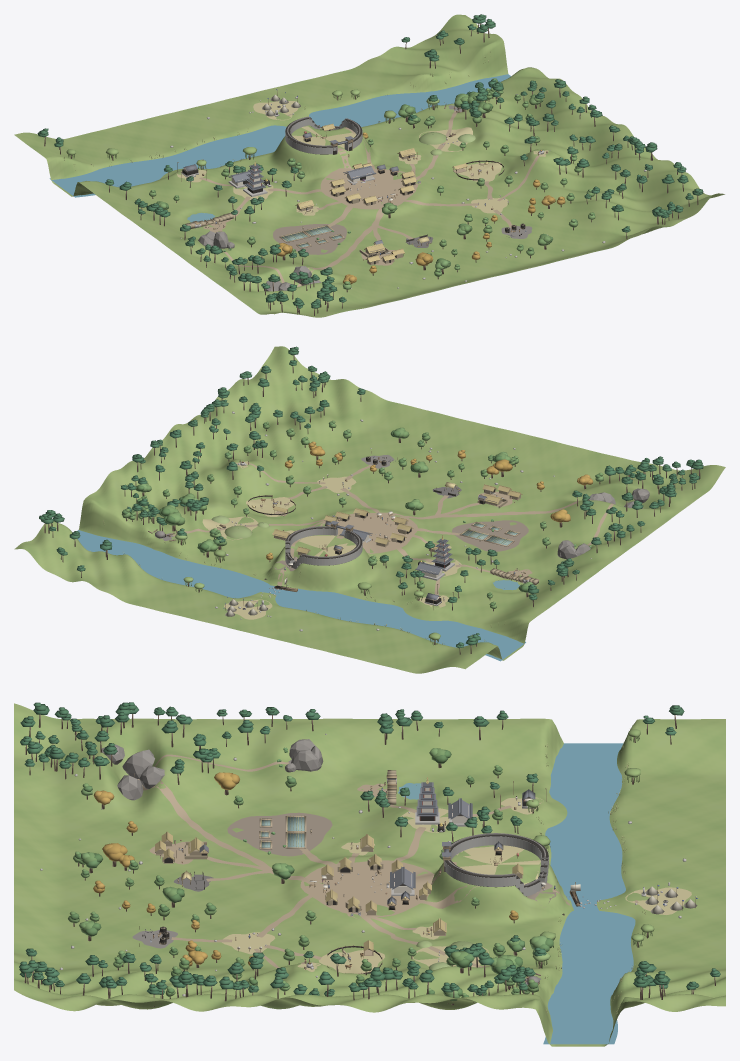
File: samguk.glb
The picture shows the model from 3 angles, top to bottom: view 1: azimuth 30°, elevation 25°; view 2: azimuth 150°, elevation 25°; view 3: azimuth 270°, elevation 25°; orthographic projection. The views are drawn at different scales.
Parts seen in each view (by area): view 1: ground, static_pine, river, static_dirt, static_leaf2, static_dry, static_bark, static_stone, static_thatch, static_mud, static_leaf_autumn, static_wall_stone (+4 smaller); view 2: ground, river, static_pine, static_dirt, static_dry, static_leaf2, static_bark, static_leaf, static_mud, static_stone, static_leaf_autumn, static_thatch (+4 smaller); view 3: ground, river, static_pine, static_dirt, static_dry, static_leaf2, static_leaf, static_bark, static_mud, static_stone, static_leaf_autumn, static_wall_stone (+6 smaller).
Boxes of the visible parts, bbox=[...] form: ground: bbox=[14, 14, 724, 317]; static_pine: bbox=[37, 14, 703, 308]; river: bbox=[49, 74, 510, 197]; static_dirt: bbox=[199, 110, 540, 286]; static_leaf2: bbox=[149, 78, 621, 289]; static_dry: bbox=[64, 52, 548, 215]; static_bark: bbox=[44, 23, 698, 315]; static_stone: bbox=[170, 94, 646, 294]; static_thatch: bbox=[295, 124, 467, 262]; static_mud: bbox=[273, 224, 346, 254]; static_leaf_autumn: bbox=[277, 132, 565, 284]; static_wall_stone: bbox=[285, 118, 362, 154]; ground: bbox=[14, 346, 725, 673]; river: bbox=[77, 530, 525, 661]; static_pine: bbox=[39, 346, 703, 648]; static_dirt: bbox=[172, 463, 614, 602]; static_dry: bbox=[103, 461, 491, 631]; static_leaf2: bbox=[121, 420, 603, 608]; static_bark: bbox=[44, 355, 700, 654]; static_leaf: bbox=[122, 421, 602, 605]; static_mud: bbox=[271, 520, 528, 575]; static_stone: bbox=[127, 411, 591, 631]; static_leaf_autumn: bbox=[266, 441, 593, 560]; static_thatch: bbox=[272, 485, 522, 553]; ground: bbox=[14, 703, 725, 1046]; river: bbox=[543, 743, 635, 1044]; static_pine: bbox=[19, 702, 720, 996]; static_dirt: bbox=[137, 754, 638, 967]; static_dry: bbox=[222, 744, 691, 1013]; static_leaf2: bbox=[68, 748, 546, 997]; static_leaf: bbox=[70, 750, 553, 1001]; static_bark: bbox=[24, 714, 715, 1006]; static_mud: bbox=[227, 812, 559, 907]; static_stone: bbox=[40, 733, 696, 996]; static_leaf_autumn: bbox=[93, 772, 518, 966]; static_wall_stone: bbox=[444, 836, 548, 896].
Size of the model in its own units: 260 by 30.95 by 260.
